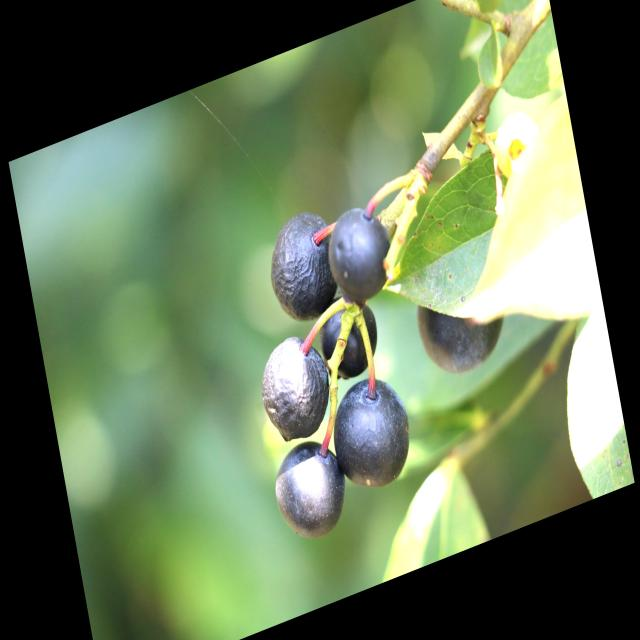blueberry: (408, 258, 516, 390), (323, 361, 422, 504), (248, 318, 344, 458), (258, 195, 350, 335), (263, 424, 357, 554), (316, 188, 406, 322), (308, 281, 388, 394)
blueberry-unripe: (489, 105, 543, 183)
